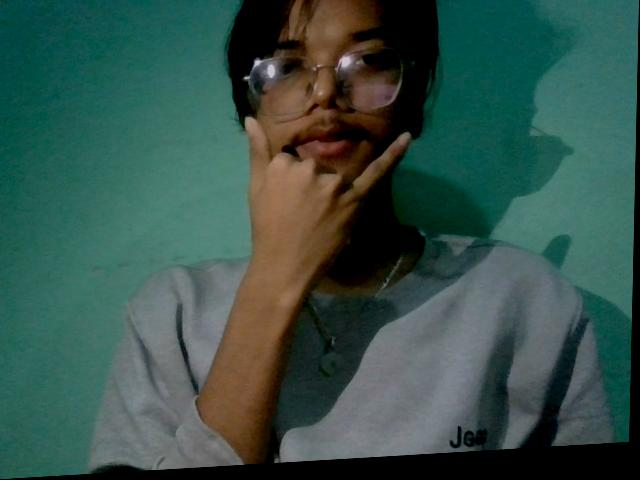Wrong: (203, 96, 427, 320)
